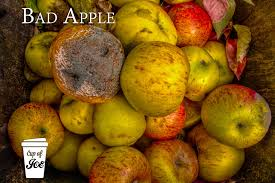damaged_apple: (46, 25, 123, 102), (122, 40, 188, 113), (202, 87, 273, 136), (10, 101, 66, 159), (112, 3, 176, 50), (84, 142, 151, 183), (147, 138, 197, 181), (180, 45, 219, 95)
